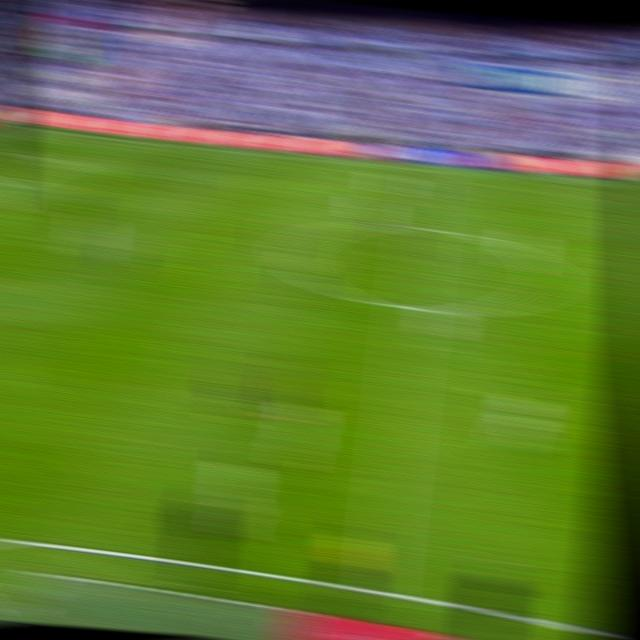halfcircle_bottom: (395, 293, 430, 320)
halfcircle_top: (406, 216, 438, 238)
midline_bottom_intersection: (360, 570, 397, 600)
midline_top_intersection: (415, 161, 444, 177)
